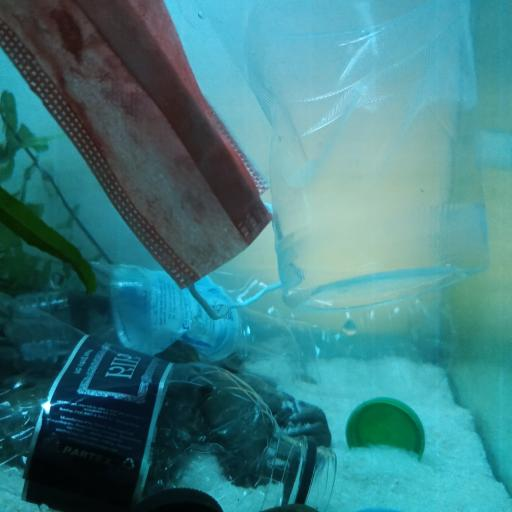bottle_cap: (348, 398, 426, 459)
mask: (0, 0, 304, 319)
plastic_bottle: (1, 288, 338, 512), (18, 256, 454, 395)
plastic_cup: (193, 0, 488, 312)
